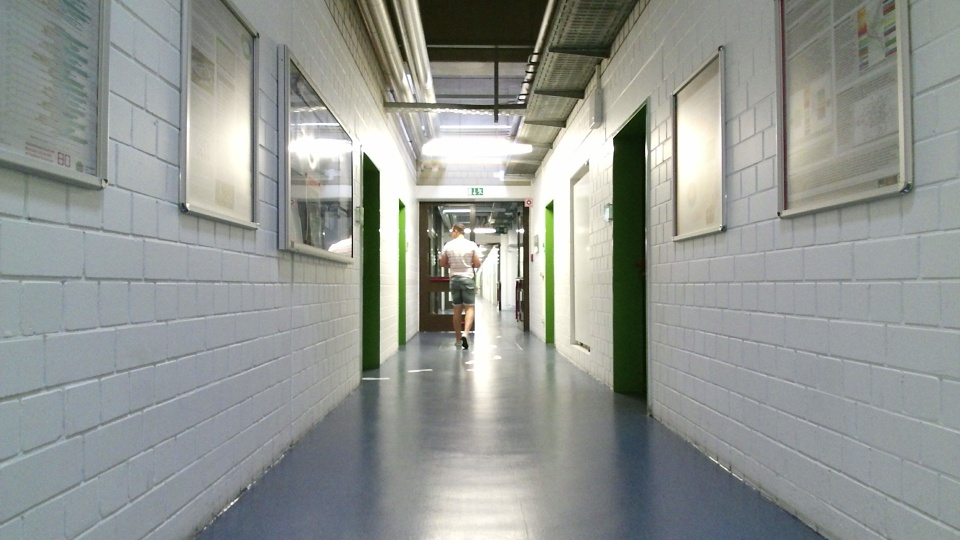person: (432, 218, 489, 357)
